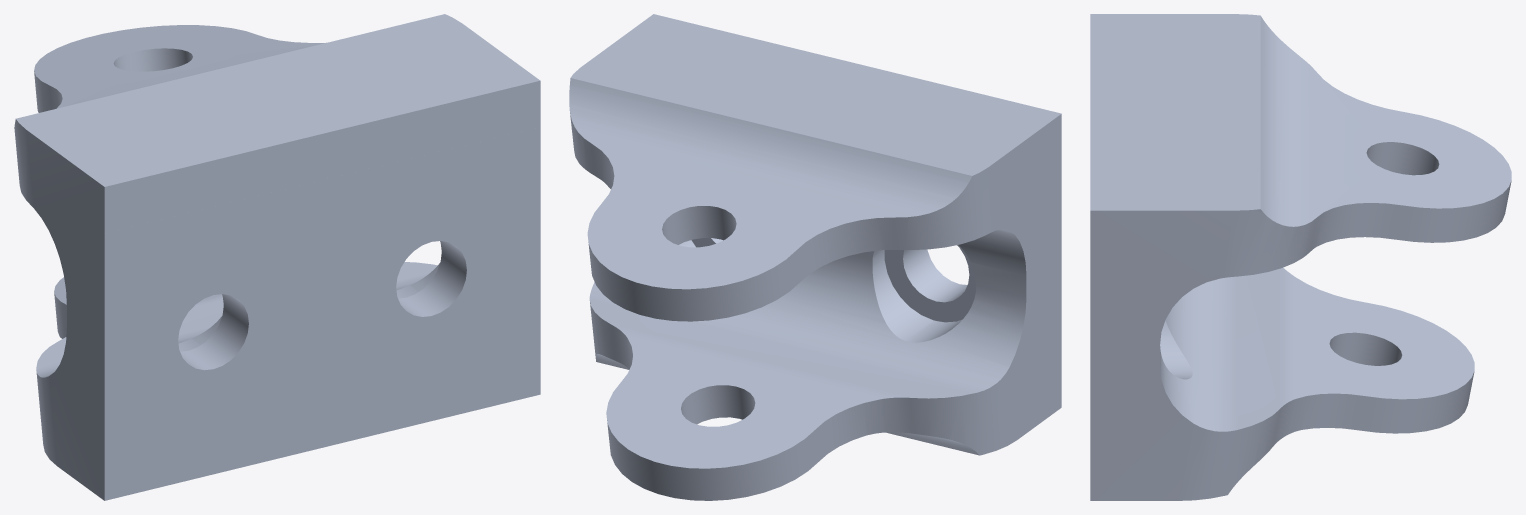
Rendered from Front_Left_Corner_Wheel_Assembly__UA_26_Front_UBJ_Tab_1.dae.
The picture shows the model from 3 angles, left to right: view 1: azimuth 30°, elevation 25°; view 2: azimuth 150°, elevation 25°; view 3: azimuth 270°, elevation 25°; orthographic projection. The views are drawn at different scales.
Parts seen in each view (by area): view 1: node0; view 2: node0; view 3: node0.
Boxes of the visible parts, left/top/right/bottom form: node0: left=14, top=14, right=540, bottom=500; node0: left=569, top=14, right=1061, bottom=500; node0: left=1090, top=14, right=1511, bottom=500.
Bounding box in the file's own units: 0.04 × 0.0275 × 0.0362.
